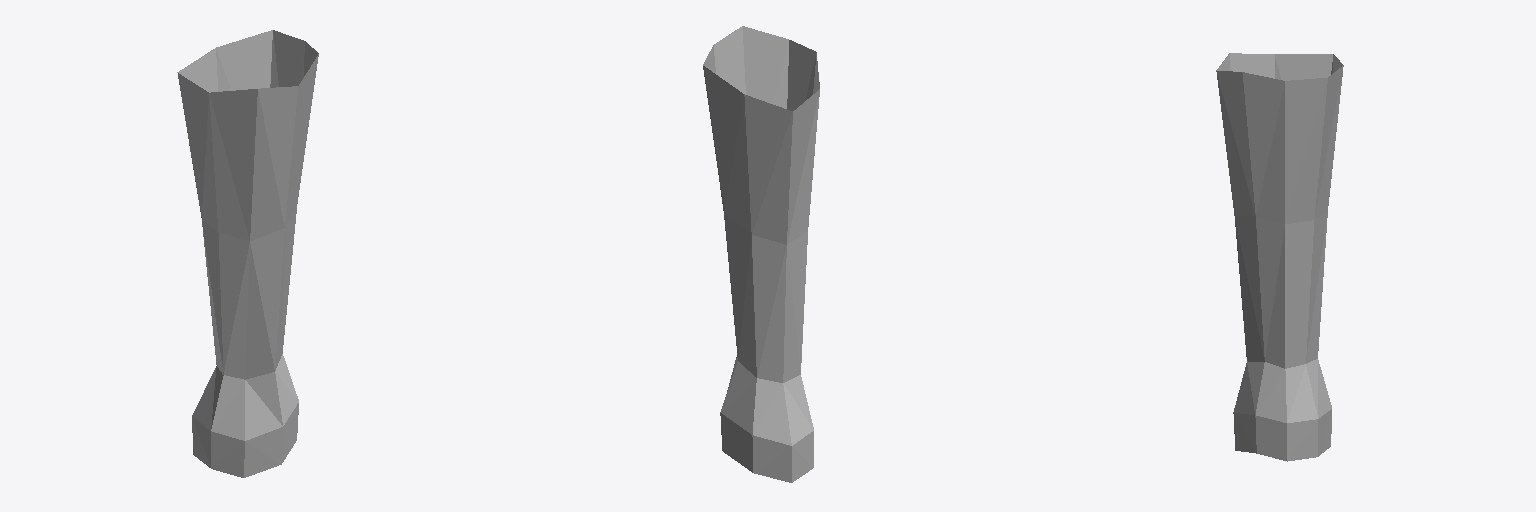
File: upperRleg.obj
3 views of the same model, side by side, from view 1: azimuth 30°, elevation 25°; view 2: azimuth 150°, elevation 25°; view 3: azimuth 270°, elevation 25° (orthographic).
Visible parts, largest first — view 1: upperRleg_Cube.006; view 2: upperRleg_Cube.006; view 3: upperRleg_Cube.006.
Part boxes in pixels (left/top/right/bottom): upperRleg_Cube.006: left=177, top=30, right=318, bottom=477; upperRleg_Cube.006: left=703, top=26, right=819, bottom=482; upperRleg_Cube.006: left=1216, top=53, right=1343, bottom=461.
Size of the model in its own units: 0.4483 by 1.7 by 0.4773.